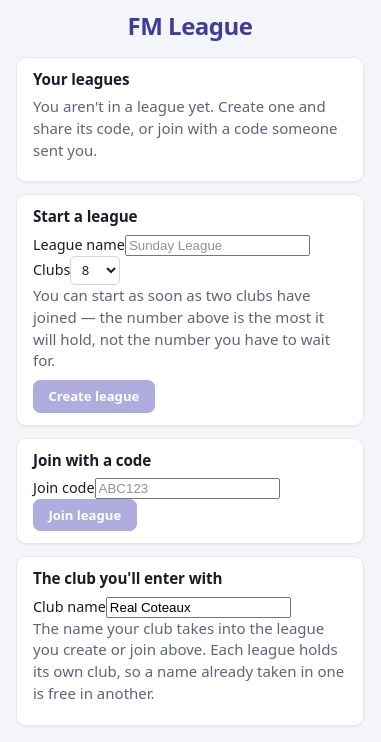
Test case: A `none` POOL IS SAID AT CREATION and the start is dead when the lobby opens
The image size is (381, 742).
Type "Empty Tree" into the field labelled "League name" at [217, 245], box top-left (125, 234), bottom-right (310, 256)
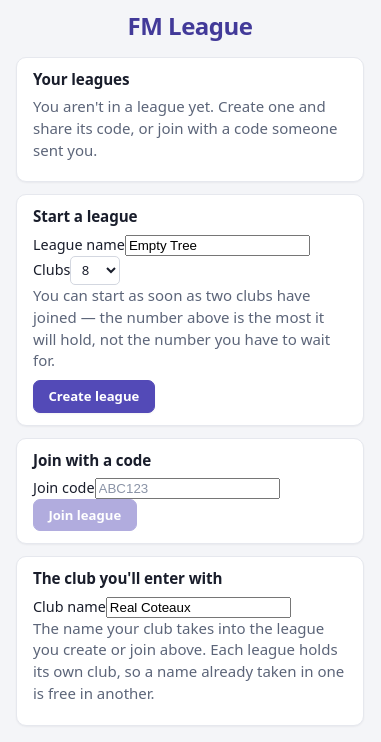
Click the button "Create league" at [94, 396], box top-left (33, 380), bottom-right (155, 413)
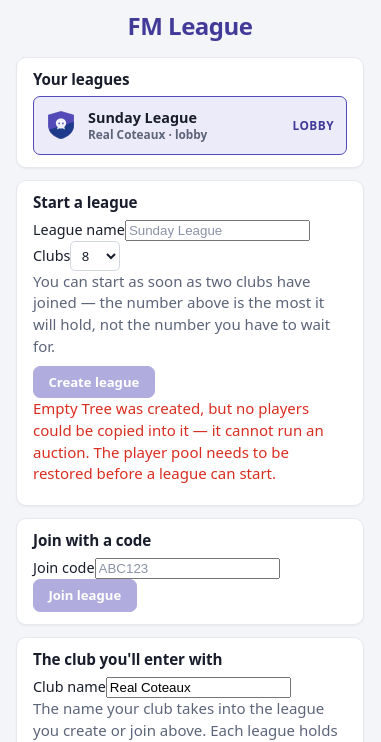
Check: the button "Start the season" is not shown
Check: the text "no players could be copied into it" is shown, box top-left (33, 398), bottom-right (324, 484)
# ...and opening the lobby says it again, with the button it blocks
Click the button "Sunday League Real Coteaux · lobby Lobby" at [190, 125], box top-left (33, 96), bottom-right (347, 155)
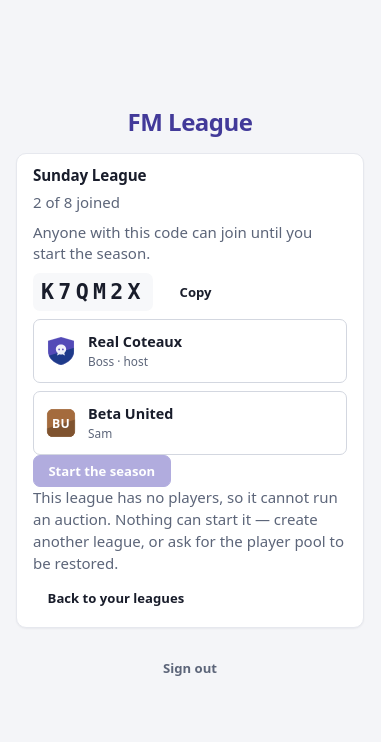
Check: the button "Start the season" is disabled, box top-left (33, 455), bottom-right (170, 487)
Check: the text "cannot run an auction" is shown, box top-left (33, 487), bottom-right (344, 573)
